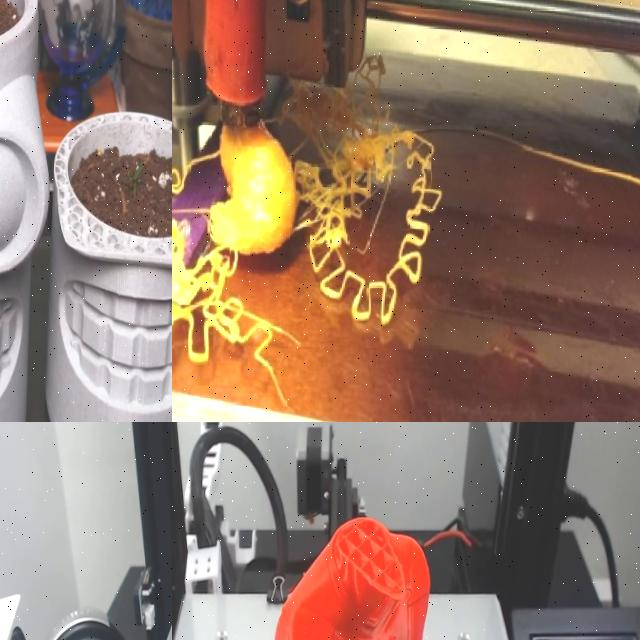spaghetti: (264, 79, 445, 328), (172, 153, 275, 366)
